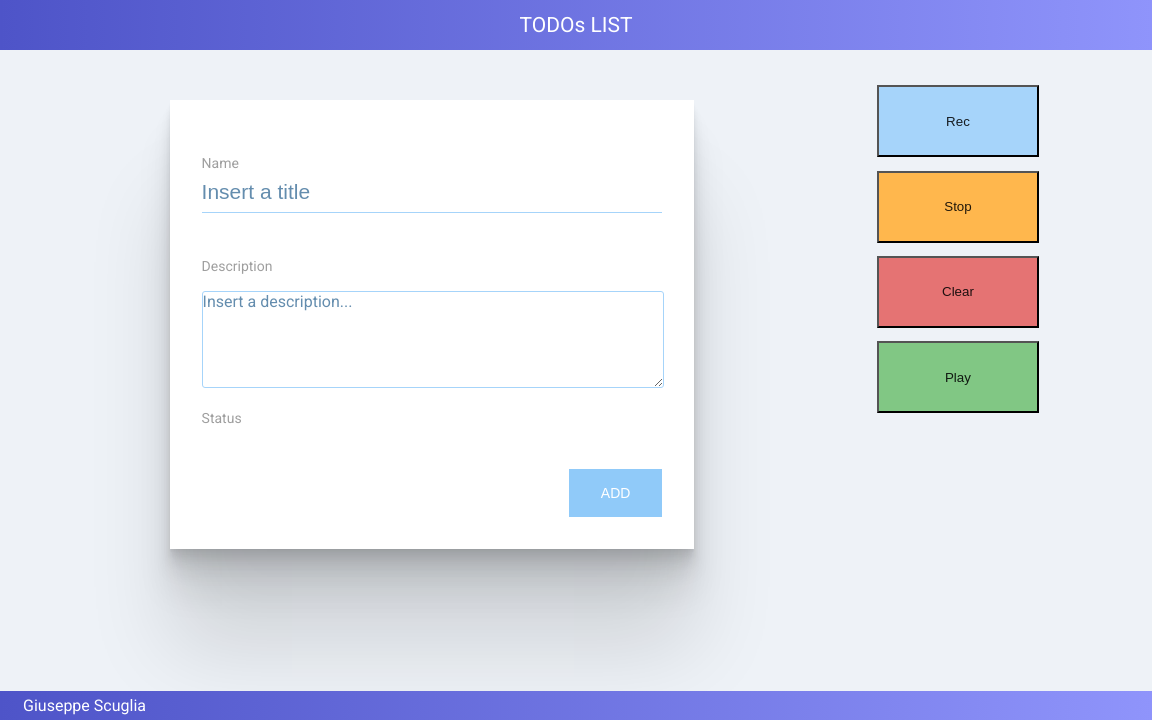
Scenario: Add todo - success
The image size is (1152, 720).
In the field with placeholder "Insert a title": [432, 193] box x1=202 y1=172 x2=662 y2=213, type "Lorem ipsum"
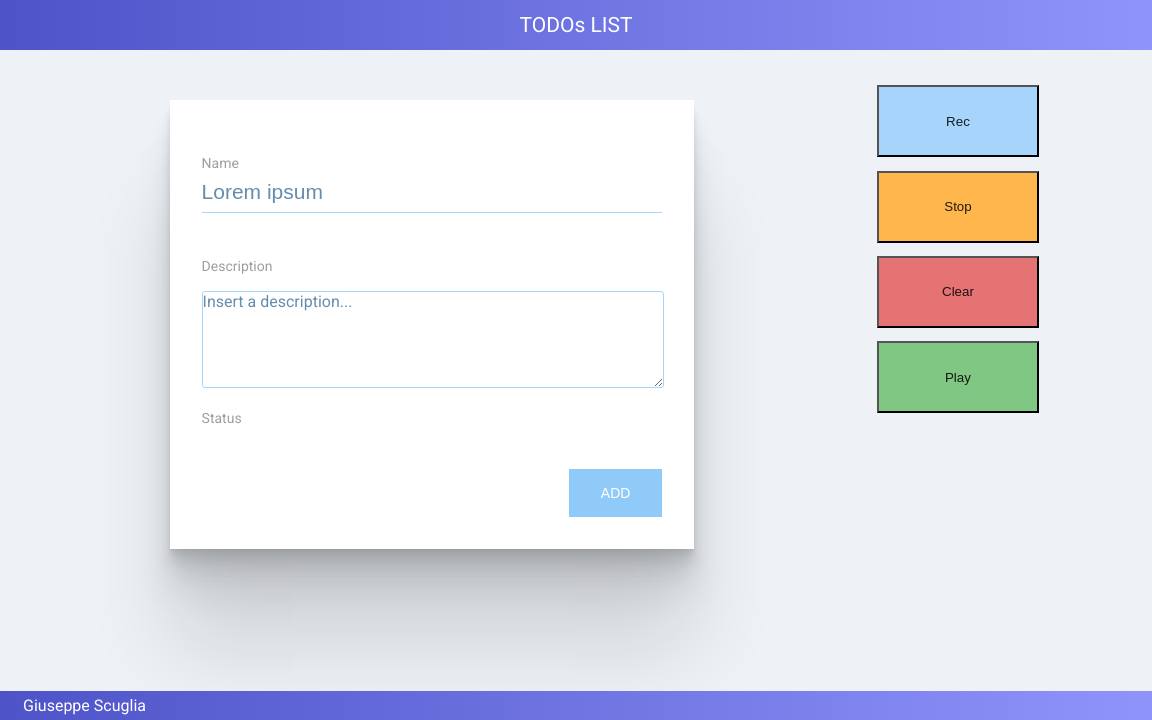
Click the button showing "Add": [616, 493] box x1=569 y1=469 x2=662 y2=517
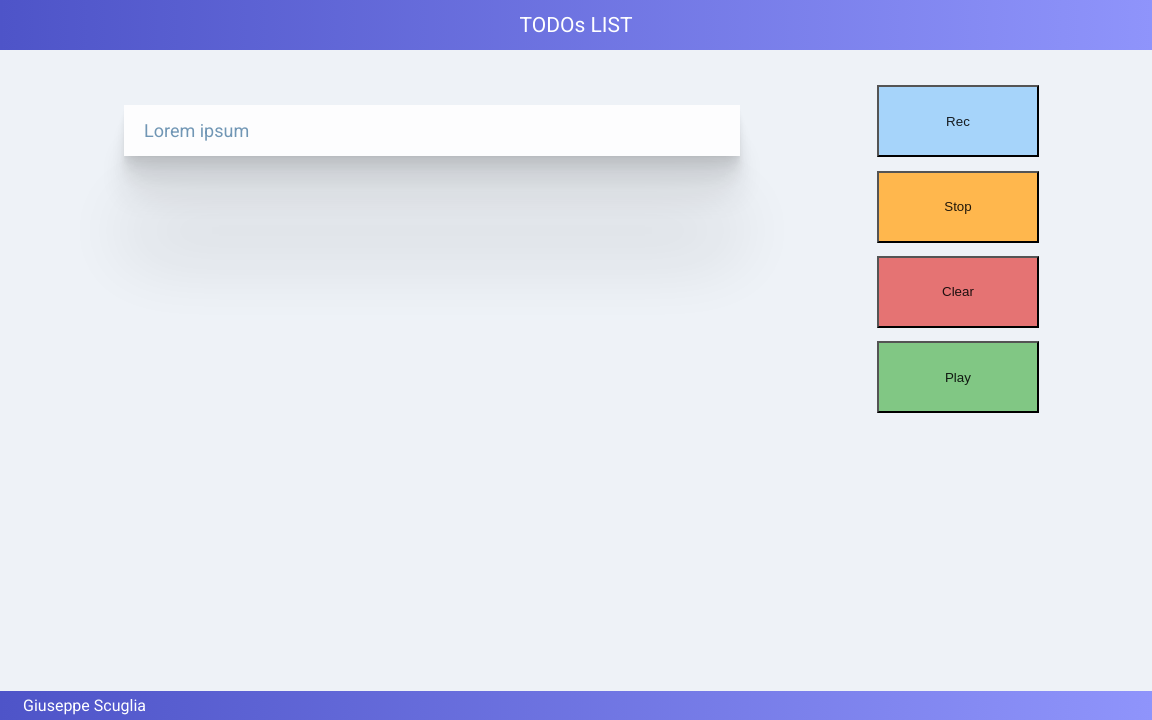
Result: the element showing "Lorem ipsum" is shown at x1=124 y1=105 x2=740 y2=156
